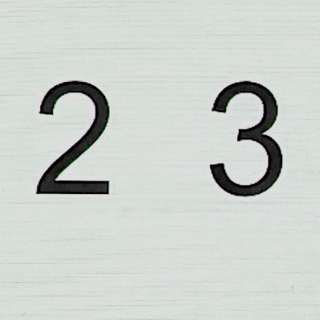three: (206, 74, 287, 199)
two: (29, 76, 116, 200)
